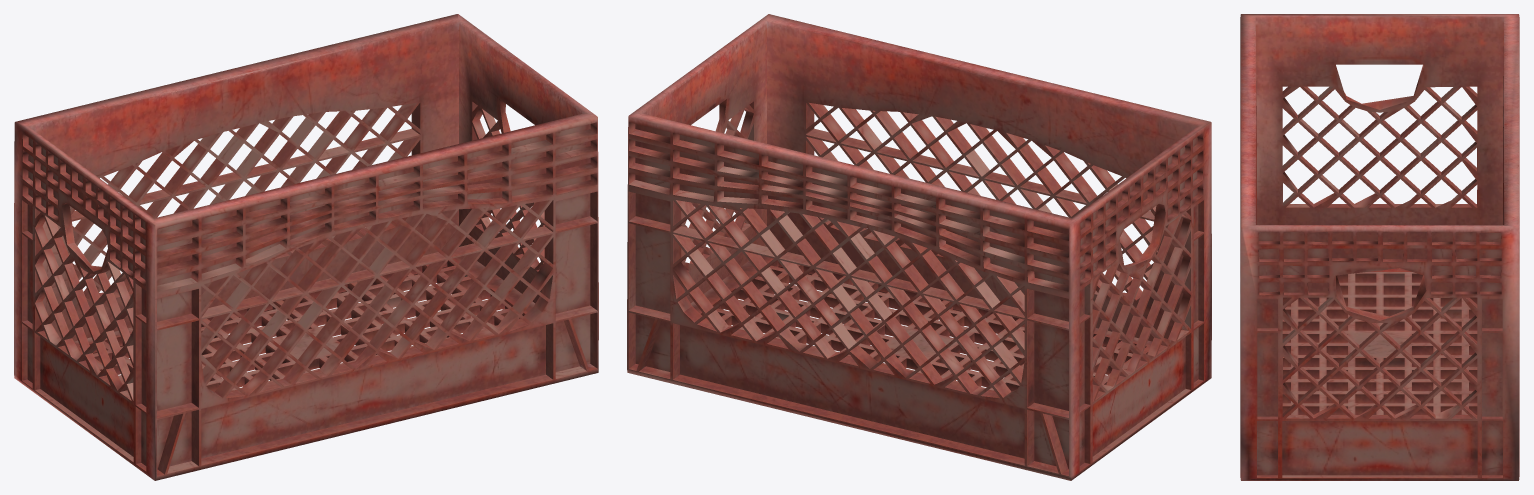
File: plastic_crate_03.glb
3 views of the same model, side by side, from view 1: azimuth 30°, elevation 25°; view 2: azimuth 150°, elevation 25°; view 3: azimuth 270°, elevation 25° (orthographic).
Visible parts, largest first — view 1: plastic_crate_03; view 2: plastic_crate_03; view 3: plastic_crate_03.
Boxes of the visible parts, x1,y1,x2,y2 form: plastic_crate_03: (14,14,598,480); plastic_crate_03: (627,14,1211,480); plastic_crate_03: (1240,14,1519,480).
Bounding box in the file's own units: 0.4811 × 0.2652 × 0.265.
Materials: 1 (1 with a texture image).
